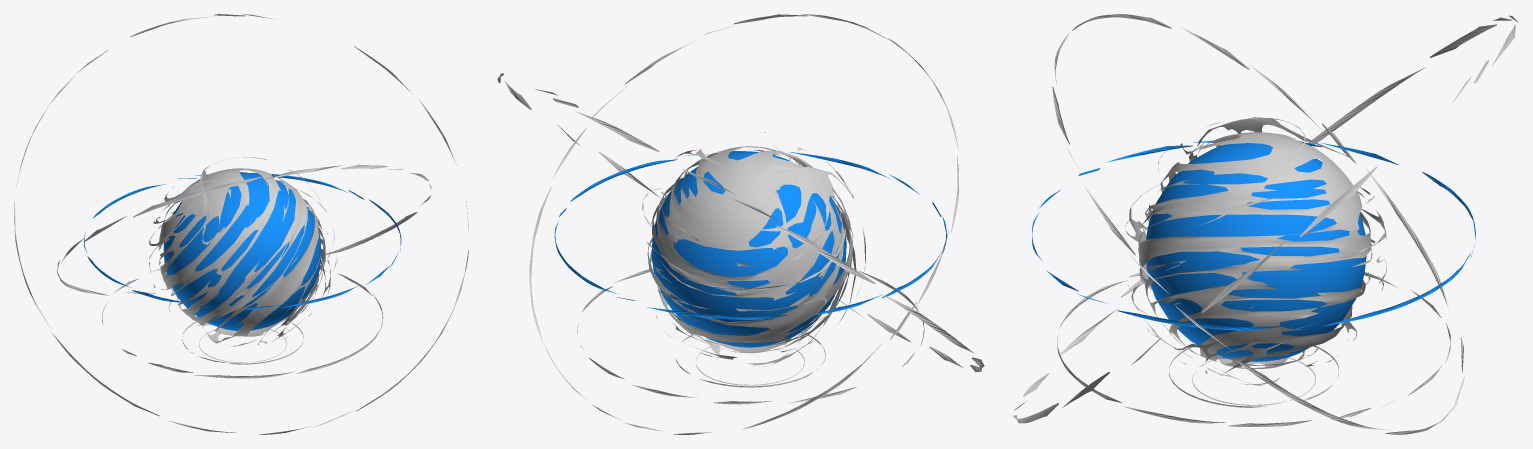
File: fireball.obj
3 renders of one model, left to right at view 1: azimuth 30°, elevation 25°; view 2: azimuth 150°, elevation 25°; view 3: azimuth 270°, elevation 25°, orthographic. The views are drawn at different scales.
Parts seen in each view (by area): view 1: Sphere.001, Sphere.002, Sphere, Circle.004, Circle, Circle.001, Circle.002; view 2: Sphere.002, Sphere.001, Sphere, Circle.004, Circle, Circle.001, Circle.002; view 3: Sphere.001, Sphere.002, Circle, Circle.004, Sphere, Circle.001, Circle.002.
Part boxes in pixels (bbox=[...]): Sphere.001: bbox=[163, 172, 321, 330]; Sphere.002: bbox=[158, 168, 325, 336]; Sphere: bbox=[149, 157, 337, 346]; Circle.004: bbox=[14, 14, 468, 434]; Circle: bbox=[57, 164, 431, 295]; Circle.001: bbox=[84, 173, 401, 309]; Circle.002: bbox=[102, 268, 383, 378]; Sphere.002: bbox=[647, 146, 853, 353]; Sphere.001: bbox=[651, 151, 846, 347]; Sphere: bbox=[642, 132, 865, 366]; Circle.004: bbox=[497, 73, 984, 372]; Circle: bbox=[529, 14, 959, 434]; Circle.001: bbox=[554, 151, 946, 319]; Circle.002: bbox=[577, 268, 924, 404]; Sphere.001: bbox=[1146, 143, 1366, 361]; Sphere.002: bbox=[1138, 132, 1372, 369]; Circle: bbox=[1052, 14, 1465, 434]; Circle.004: bbox=[1013, 15, 1518, 423]; Sphere: bbox=[1125, 117, 1386, 385]; Circle.001: bbox=[1032, 140, 1475, 330]; Circle.002: bbox=[1057, 272, 1450, 426].
Size of the model in its own units: 5.46 by 3.78 by 4.43.
